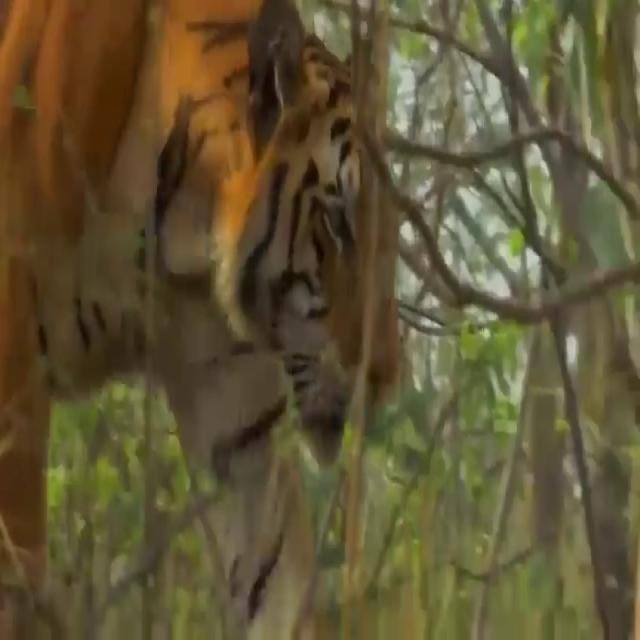tiger: (3, 0, 401, 640)
